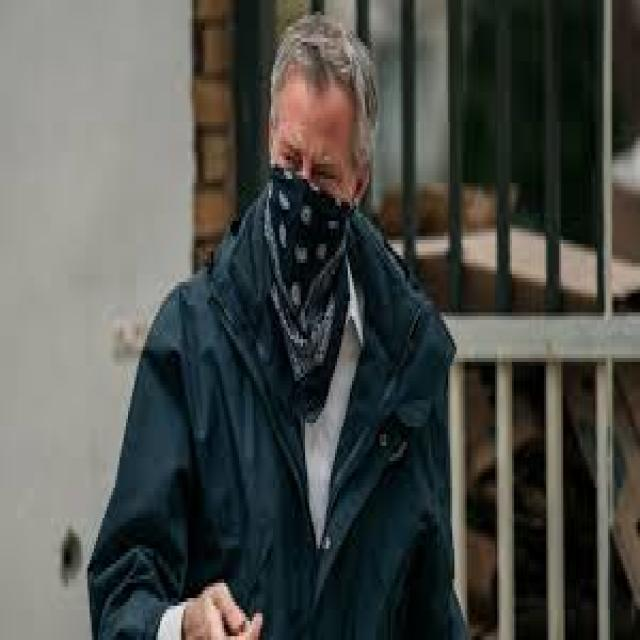person-with-mask: (47, 2, 536, 640)
